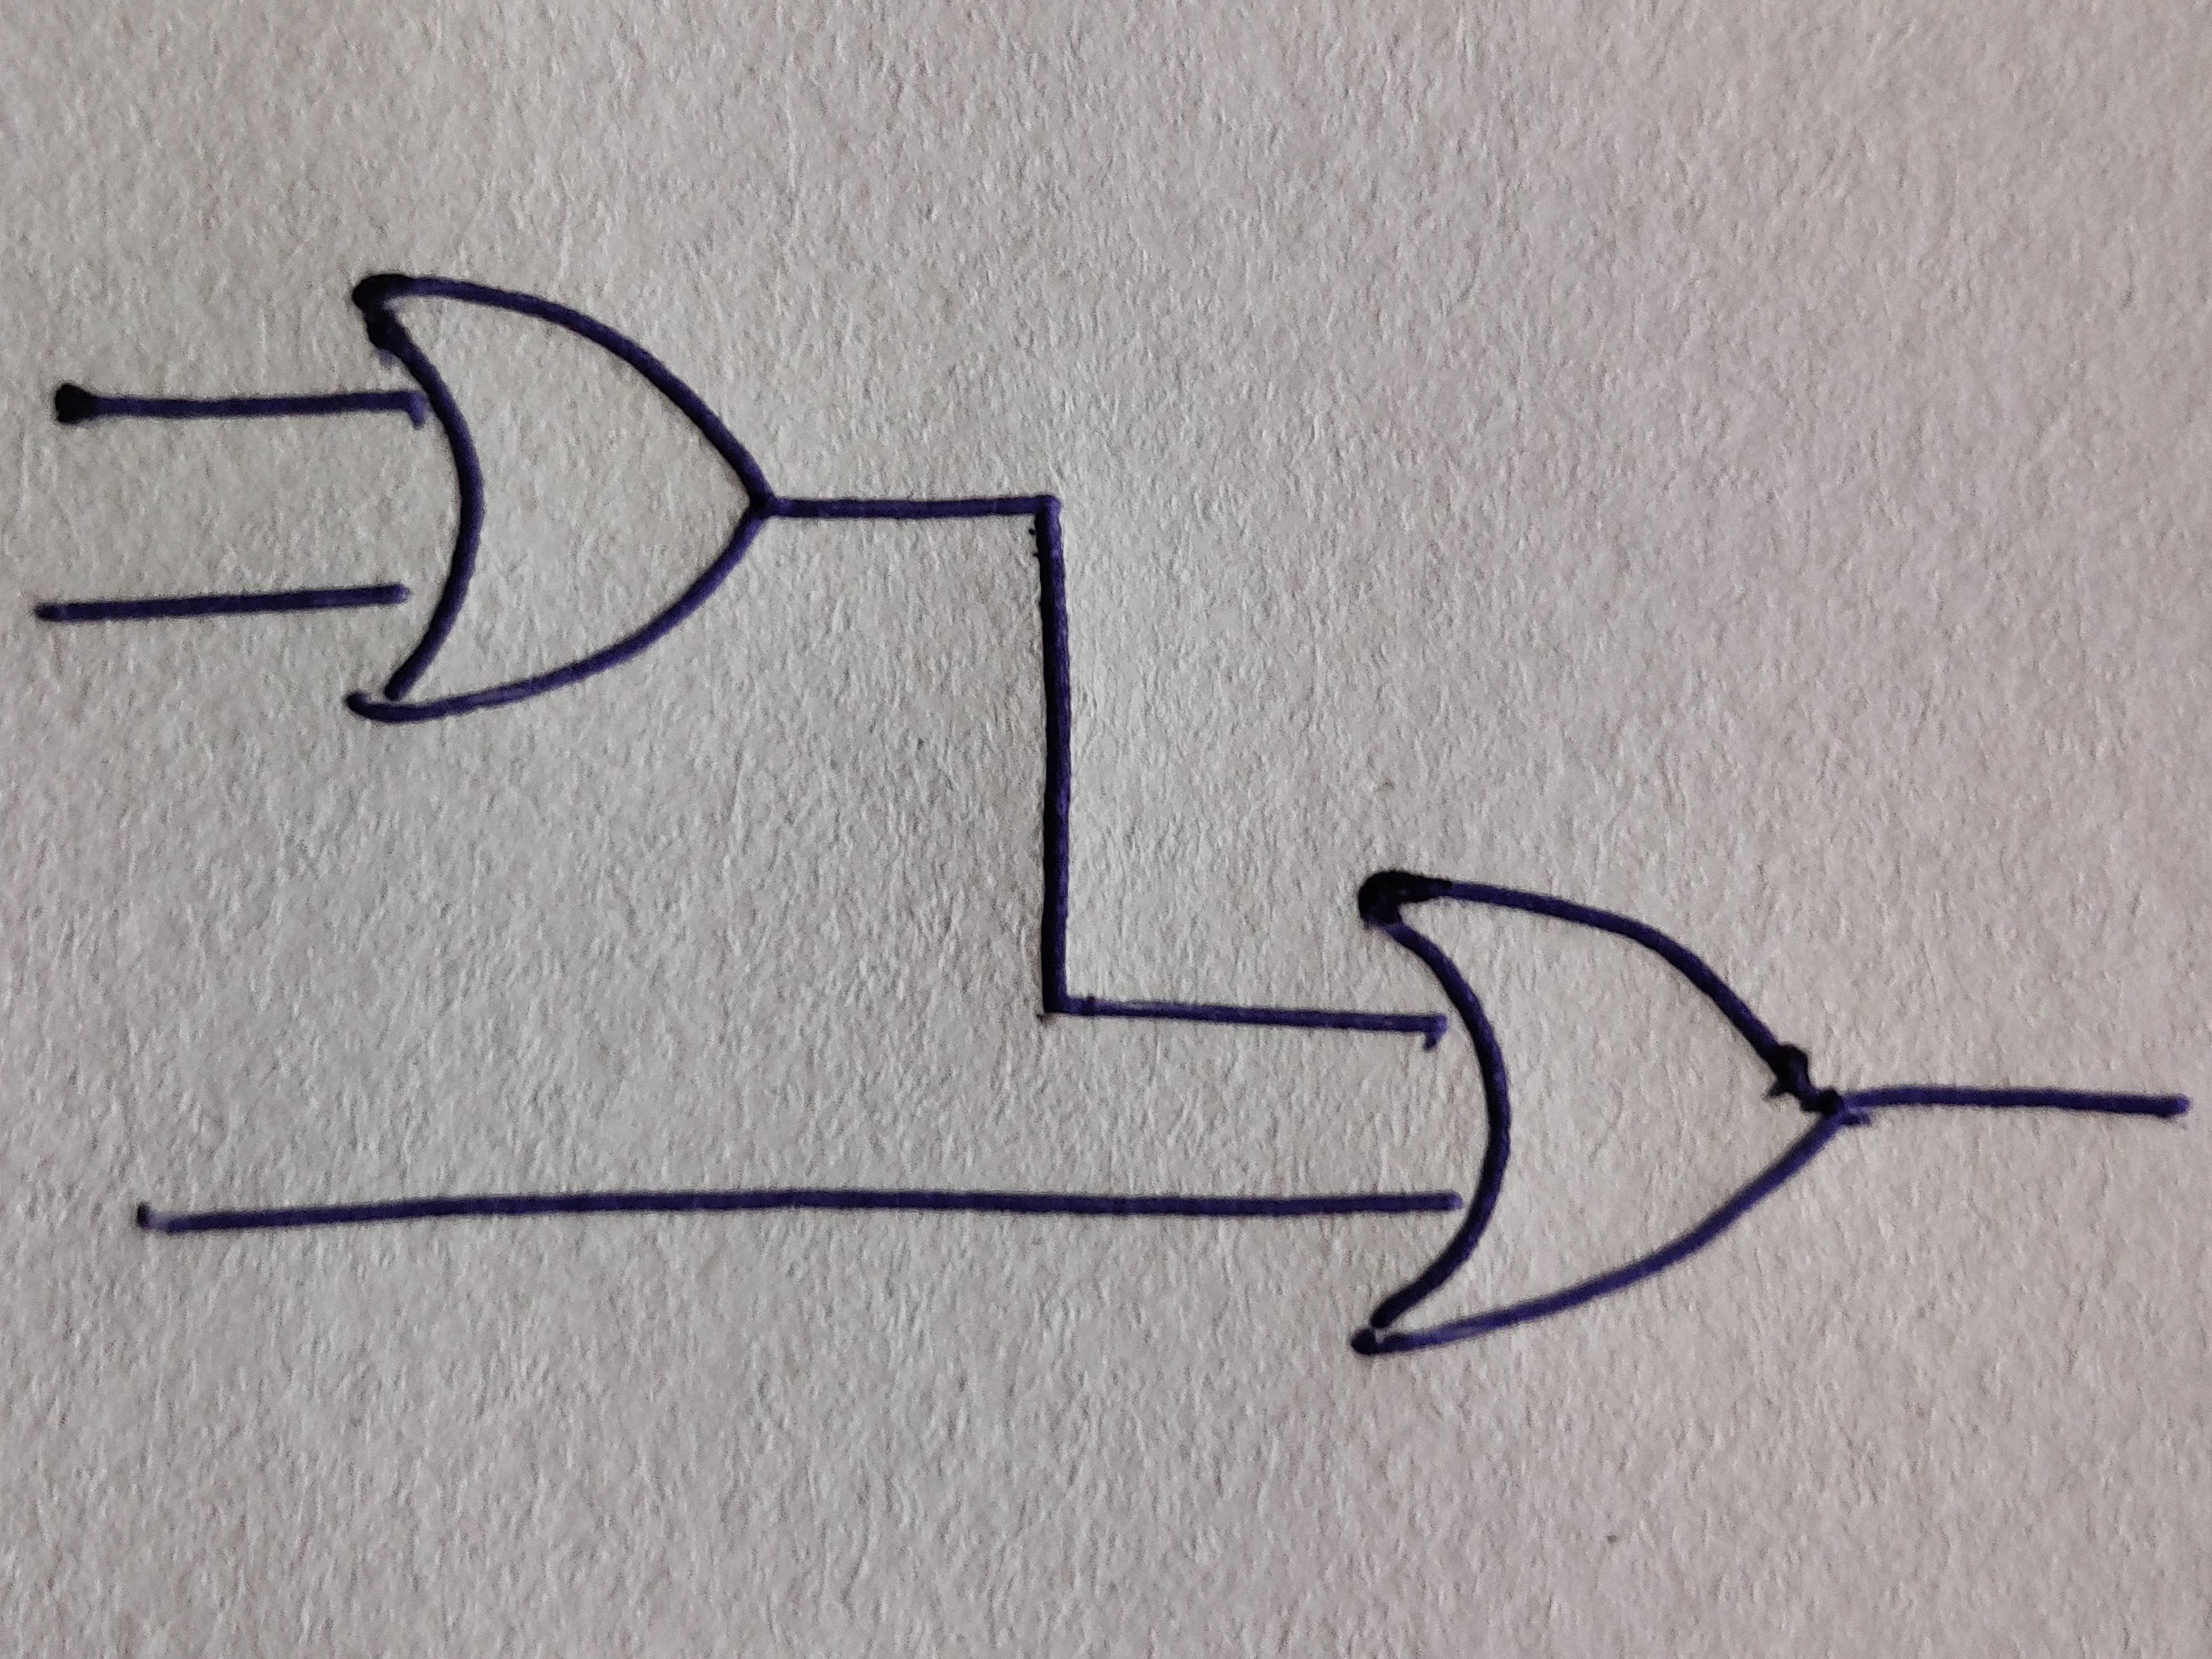or: (1350, 868, 1850, 1364), (352, 274, 773, 725)
